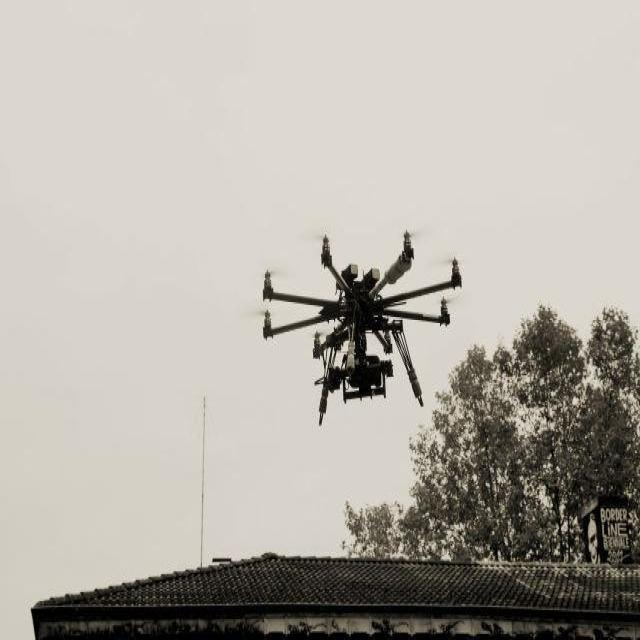drone: (261, 231, 463, 429)
